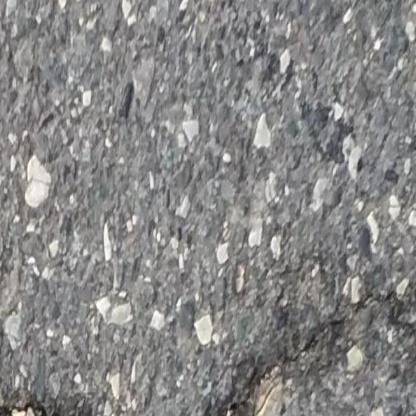Cracks: (195, 284, 416, 416), (0, 392, 115, 416)
